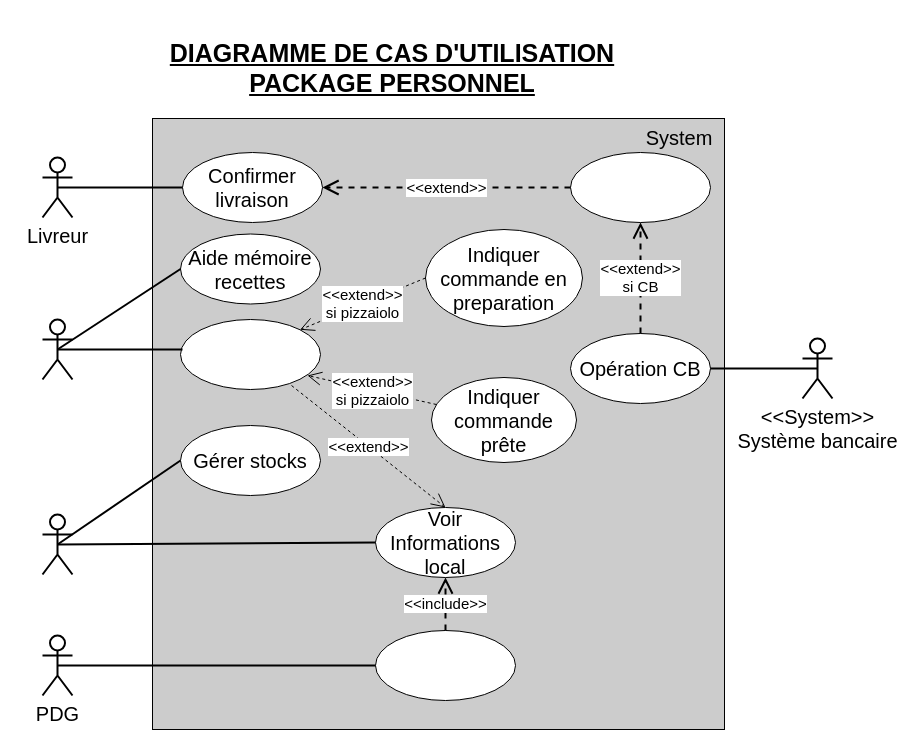
This 915x747 diagram has some shape labels left out. The centre of each missing label's shape, as x and y in pixels:
"Choisir local" belongs at pixel 445 665.
"Confirmer paiement" belongs at pixel 640 187.
"Manager" belongs at pixel 57 544.
"Pizzaiolo" belongs at pixel 57 349.
"Voir liste des commandes" belongs at pixel 250 354.
